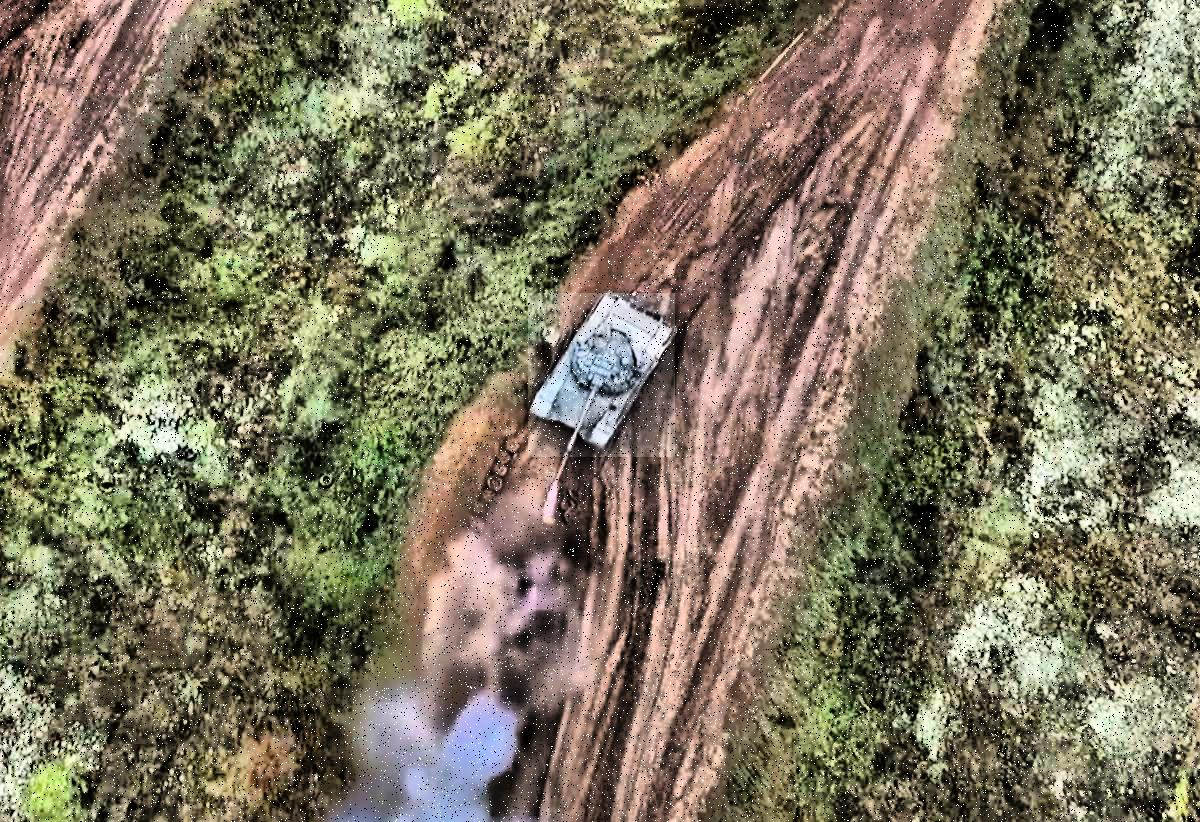military-vehicle: (529, 293, 676, 457)
